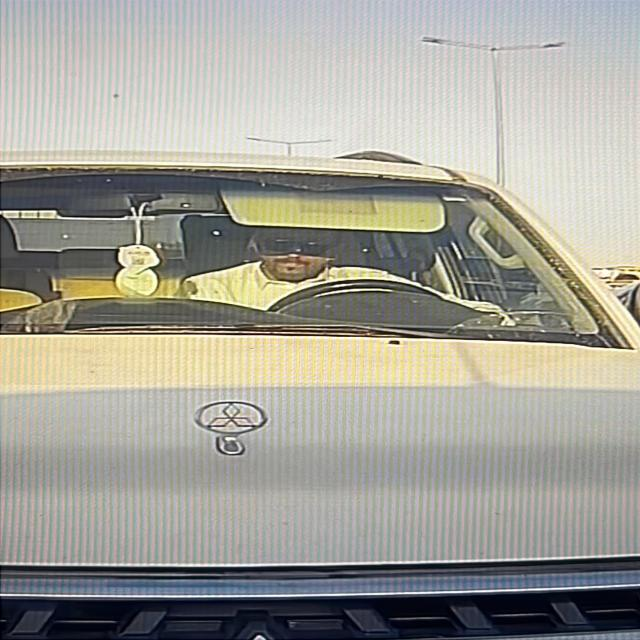person_without_seatbelt: (181, 228, 449, 334)
